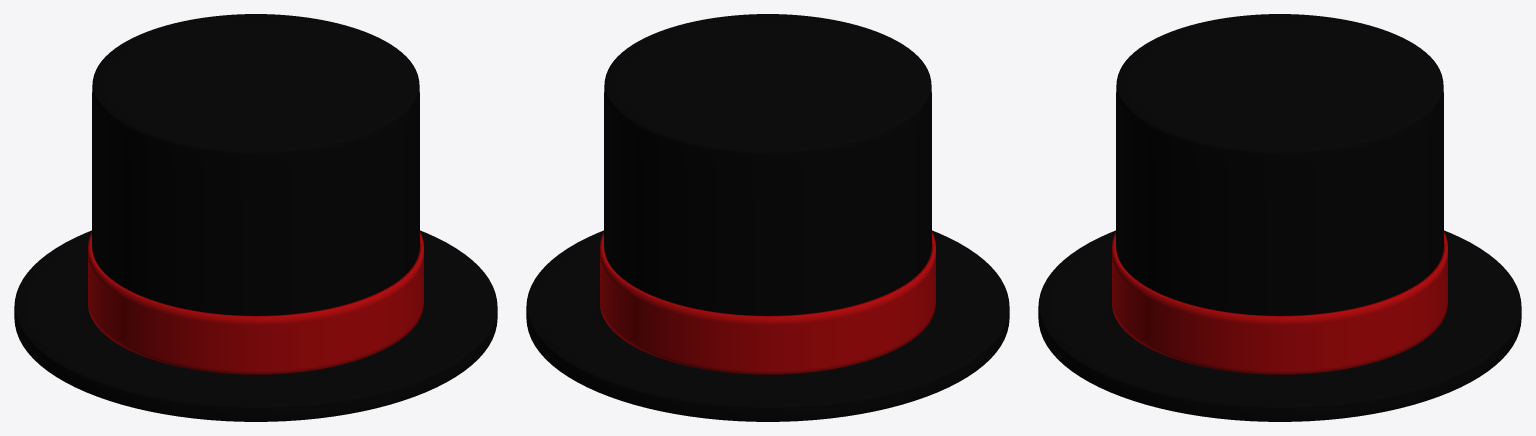
File: cap.glb
The picture shows the model from 3 angles, left to right: view 1: azimuth 30°, elevation 25°; view 2: azimuth 150°, elevation 25°; view 3: azimuth 270°, elevation 25°; orthographic projection.
Parts seen in each view (by area): view 1: Hat, Rim; view 2: Hat, Rim; view 3: Hat, Rim.
Boxes of the visible parts, x1,y1,x2,y2 form: Hat: [14, 14, 497, 421]; Rim: [88, 232, 423, 374]; Hat: [526, 14, 1009, 421]; Rim: [600, 232, 935, 374]; Hat: [1038, 14, 1521, 421]; Rim: [1112, 232, 1447, 374].
Size of the model in its own units: 0.9644 by 0.5263 by 0.9644.
